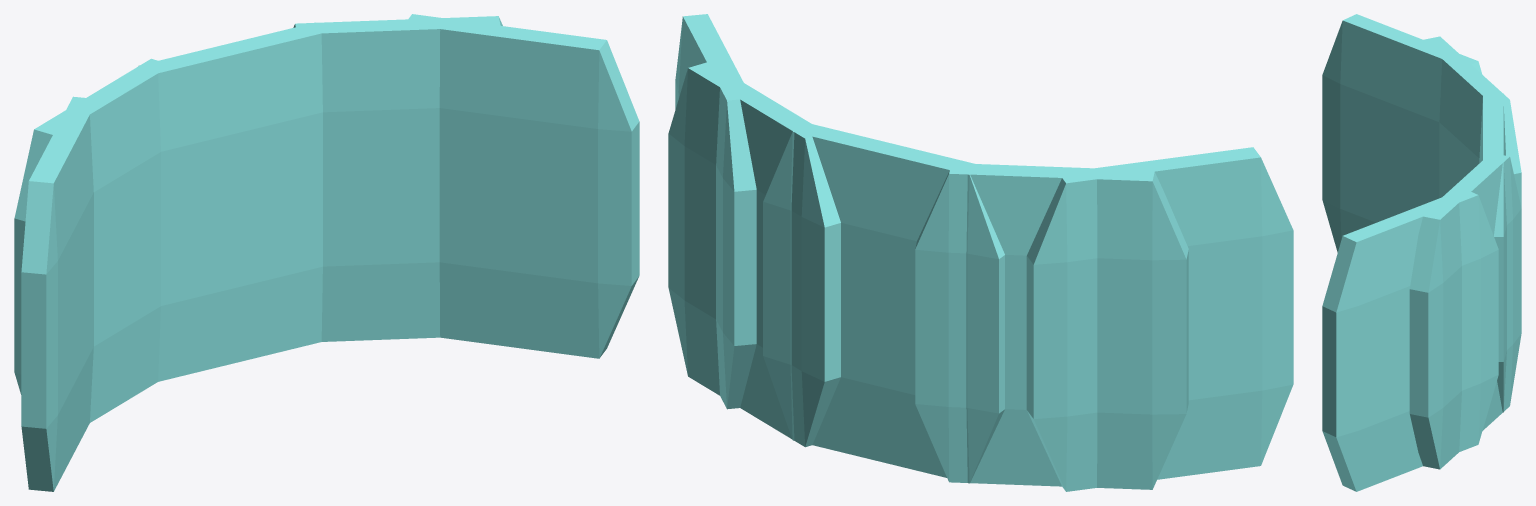
The model's file is muro_hielo_oso.gltf.
The picture shows the model from 3 angles, left to right: view 1: azimuth 30°, elevation 25°; view 2: azimuth 150°, elevation 25°; view 3: azimuth 270°, elevation 25°; orthographic projection. The views are drawn at different scales.
Parts seen in each view (by area): view 1: beveled_cuboid (×5); view 2: beveled_cuboid (×5); view 3: beveled_cuboid (×5).
Boxes of the visible parts, x1,y1,x2,y2 form: beveled_cuboid (×5): (14,14,639,491); beveled_cuboid (×5): (668,14,1293,491); beveled_cuboid (×5): (1322,14,1521,491).
Size of the model in its own units: 2.62 by 1.25 by 0.9041.
1 material, 1 textured.
